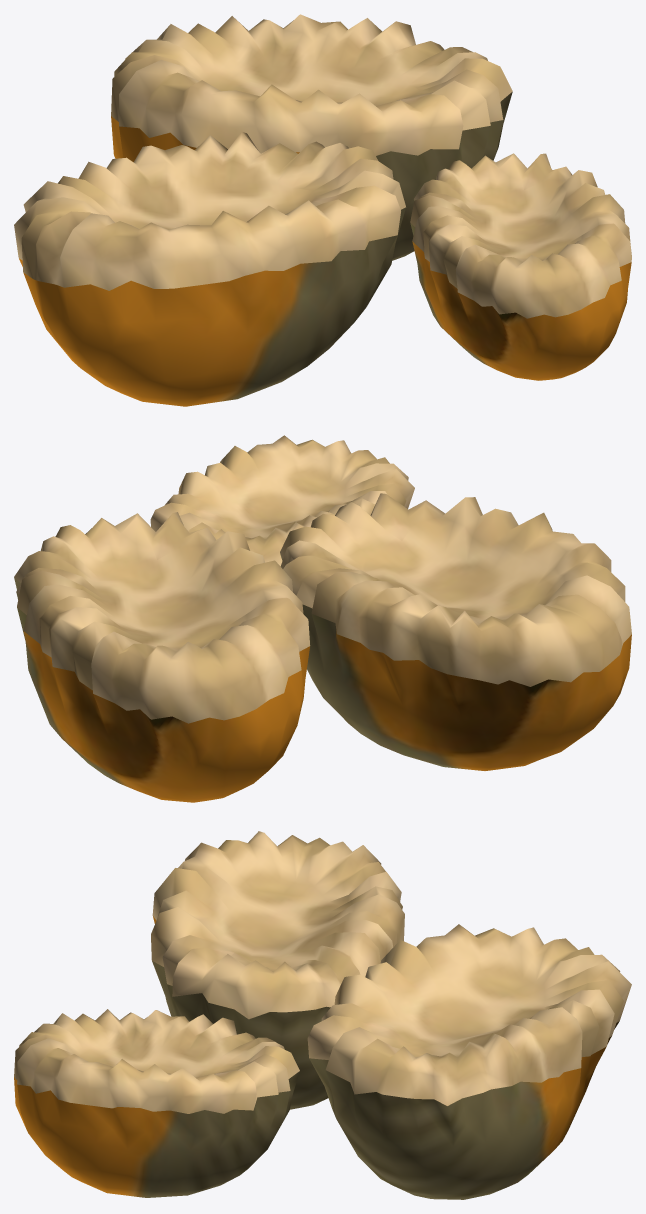
The model's file is softcoral-05.glb.
3 views of the same model, one above another, from view 1: azimuth 30°, elevation 25°; view 2: azimuth 150°, elevation 25°; view 3: azimuth 270°, elevation 25° (orthographic). The views are drawn at different scales.
Parts seen in each view (by area): view 1: coral13; view 2: coral13; view 3: coral13.
Boxes of the visible parts, bbox=[...] form: coral13: bbox=[14, 14, 631, 406]; coral13: bbox=[14, 435, 631, 802]; coral13: bbox=[14, 831, 631, 1199].
Bounding box in the file's own units: 1.56 × 0.6212 × 1.66.
Materials: 1 (1 with a texture image).
